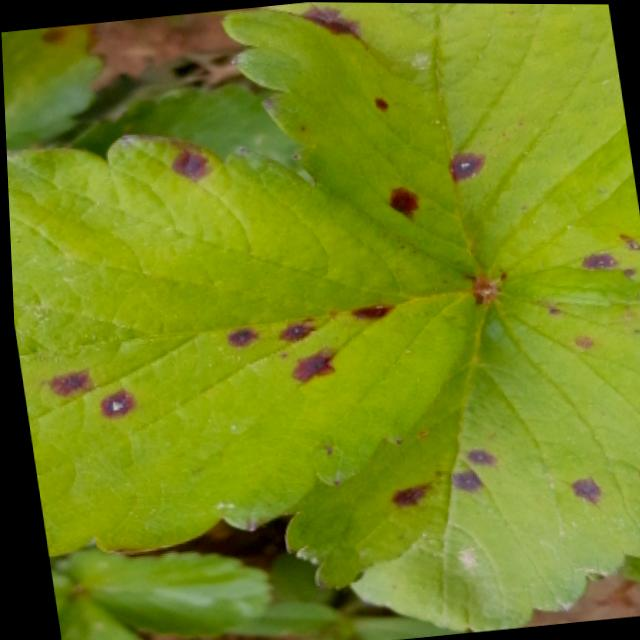Leaf Spot: (5, 131, 477, 557), (220, 2, 640, 304), (277, 284, 640, 632)
